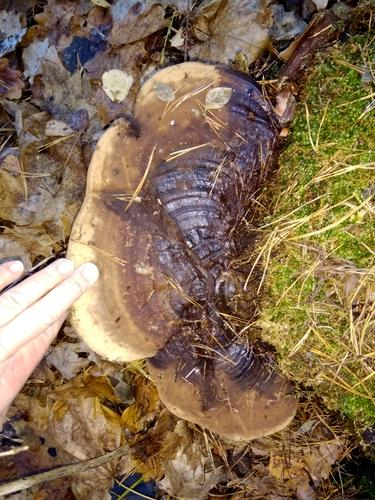Ganoderma - Fruit Body: (66, 51, 342, 443)
